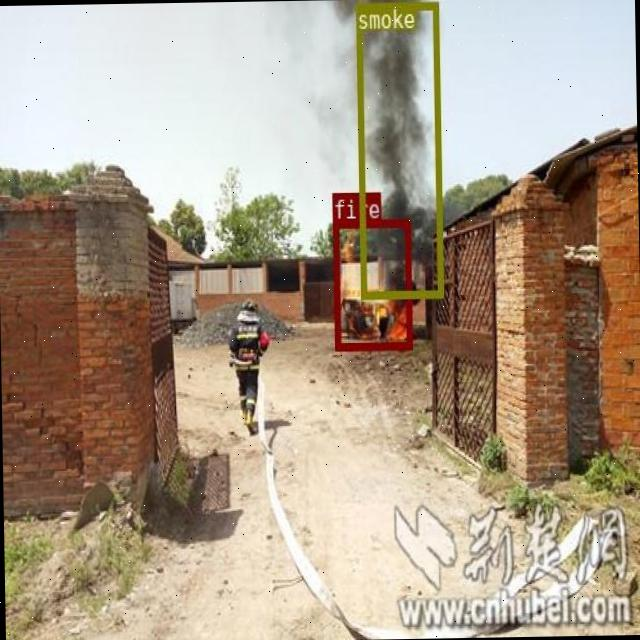fire: (332, 218, 410, 350)
smoke: (354, 0, 442, 297)
